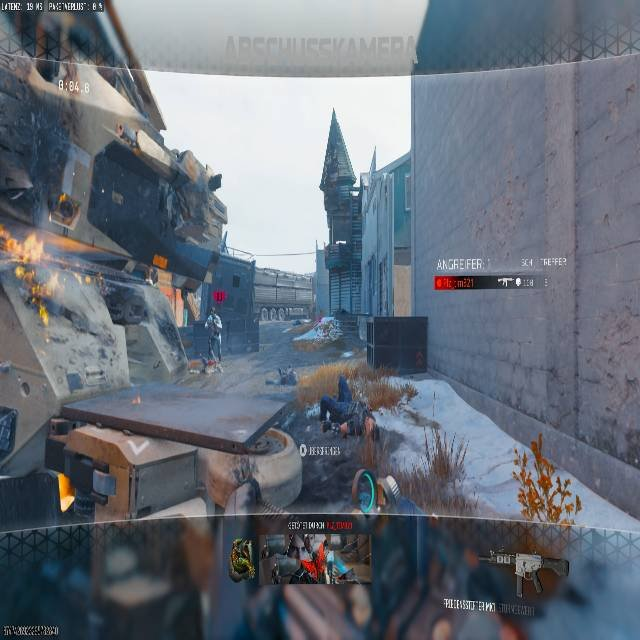head: (208, 306, 215, 315)
player: (203, 308, 222, 362)
